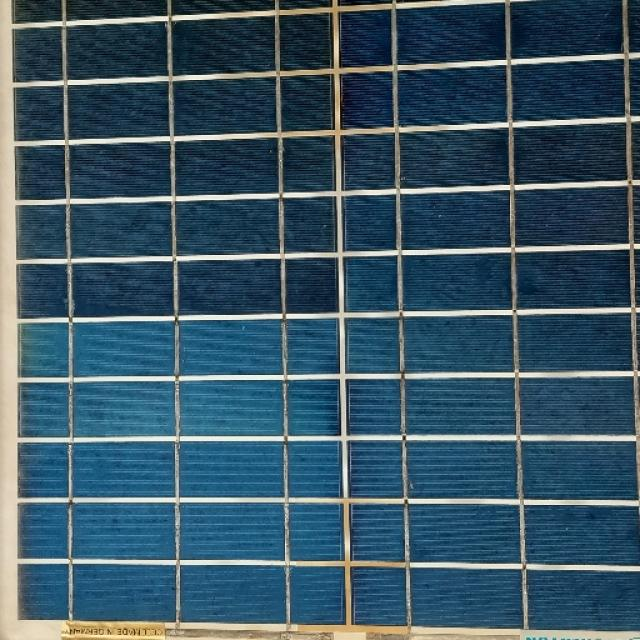Clean: (0, 21, 640, 637)
